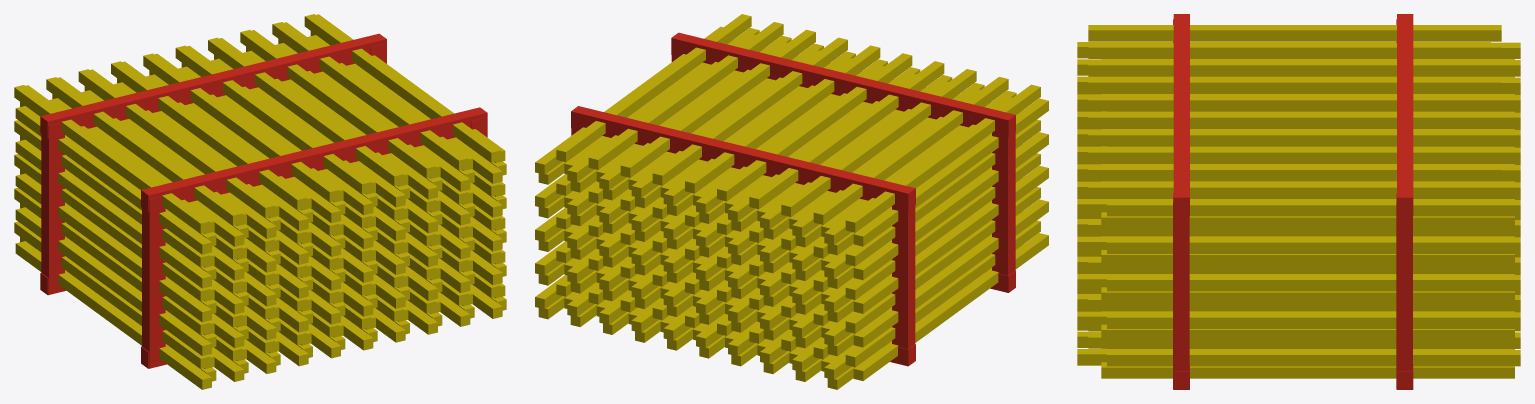
The model's file is balla di fieno (1).fbx.
The picture shows the model from 3 angles, left to right: view 1: azimuth 30°, elevation 25°; view 2: azimuth 150°, elevation 25°; view 3: azimuth 270°, elevation 25°; orthographic projection. The views are drawn at different scales.
Parts seen in each view (by area): view 1: Connect_5, Connect_1, nastro_1_1, nastro_1, Connect_2, Connect; view 2: Connect_5, Connect_1, Connect_2, Connect, nastro_1_1, nastro_1; view 3: Connect_5, Connect_2, Connect, Connect_1, nastro_1_1, nastro_1.
Part boxes in pixels (left/top/right/bottom): Connect_5: left=14, top=14, right=500, bottom=368; Connect_1: left=15, top=35, right=502, bottom=389; nastro_1_1: left=40, top=33, right=386, bottom=295; nastro_1: left=141, top=107, right=487, bottom=368; Connect_2: left=25, top=14, right=505, bottom=368; Connect: left=20, top=31, right=506, bottom=381; Connect_5: left=556, top=14, right=1040, bottom=367; Connect_1: left=564, top=28, right=1048, bottom=380; Connect_2: left=535, top=26, right=1012, bottom=379; Connect: left=538, top=40, right=1022, bottom=389; nastro_1_1: left=571, top=106, right=915, bottom=366; nastro_1: left=671, top=32, right=1015, bottom=292; Connect_5: left=1088, top=25, right=1501, bottom=348; Connect_2: left=1107, top=42, right=1520, bottom=366; Connect: left=1101, top=59, right=1514, bottom=378; Connect_1: left=1077, top=42, right=1490, bottom=365; nastro_1_1: left=1396, top=14, right=1413, bottom=389; nastro_1: left=1173, top=14, right=1189, bottom=389.
Bounding box in the file's own units: 210 × 103 × 214.
